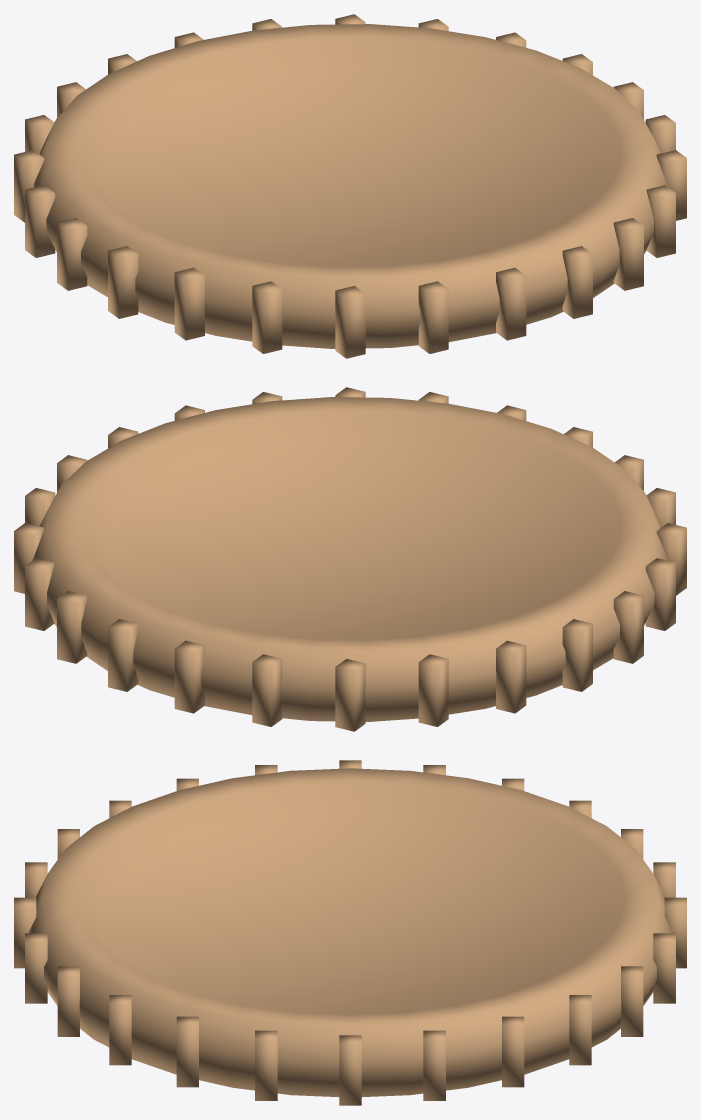
File: coin.glb
3 views of the same model, one above another, from view 1: azimuth 30°, elevation 25°; view 2: azimuth 150°, elevation 25°; view 3: azimuth 270°, elevation 25° (orthographic).
Parts seen in each view (by area): view 1: coin_body, coin_notch15, coin_notch14, coin_notch16, coin_notch17, coin_notch13, coin_notch18, coin_notch19, coin_notch12, coin_notch20, coin_notch11, coin_notch21 (+6 smaller); view 2: coin_body, coin_notch9, coin_notch8, coin_notch10, coin_notch7, coin_notch11, coin_notch6, coin_notch5, coin_notch12, coin_notch4, coin_notch13, coin_notch3 (+6 smaller); view 3: coin_body, coin_notch2, coin_notch22, coin_notch0, coin_notch1, coin_notch3, coin_notch4, coin_notch20, coin_notch21, coin_notch23, coin_notch5, coin_notch19 (+4 smaller).
Part boxes in pixels (x1,y1,x2,y2): coin_body: (33,24,668,348); coin_notch15: (252,281,282,353); coin_notch14: (174,267,204,340); coin_notch16: (335,286,365,358); coin_notch17: (418,281,448,353); coin_notch13: (108,246,138,318); coin_notch18: (496,267,526,340); coin_notch19: (562,246,592,318); coin_notch12: (57,218,87,290); coin_notch20: (613,218,643,290); coin_notch11: (25,185,55,257); coin_notch21: (646,185,675,257); coin_body: (32,397,667,721); coin_notch9: (418,654,448,726); coin_notch8: (335,659,365,731); coin_notch10: (496,640,526,713); coin_notch7: (252,654,282,726); coin_notch11: (562,619,592,691); coin_notch6: (174,640,204,713); coin_notch5: (108,619,138,691); coin_notch12: (613,591,643,663); coin_notch4: (57,591,87,663); coin_notch13: (645,558,675,630); coin_notch3: (25,558,54,630); coin_body: (29,768,671,1097); coin_notch2: (502,1016,524,1087); coin_notch22: (176,1016,198,1087); coin_notch0: (339,1035,361,1105); coin_notch1: (423,1030,445,1100); coin_notch3: (569,995,591,1065); coin_notch4: (621,966,643,1036); coin_notch20: (57,966,79,1036); coin_notch21: (109,995,131,1065); coin_notch23: (255,1030,277,1100); coin_notch5: (653,933,675,1003); coin_notch19: (25,933,47,1003).
Bounding box in the file's own units: 0.024 × 0.0027 × 0.024.
